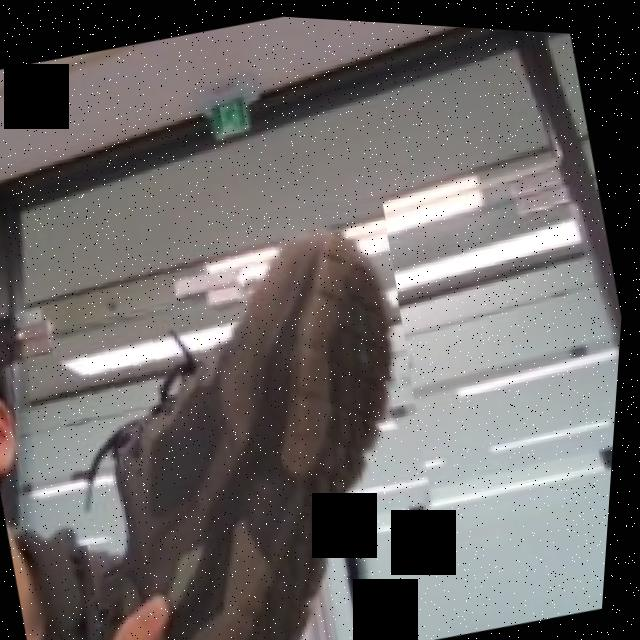shoe: (15, 158, 492, 640)
